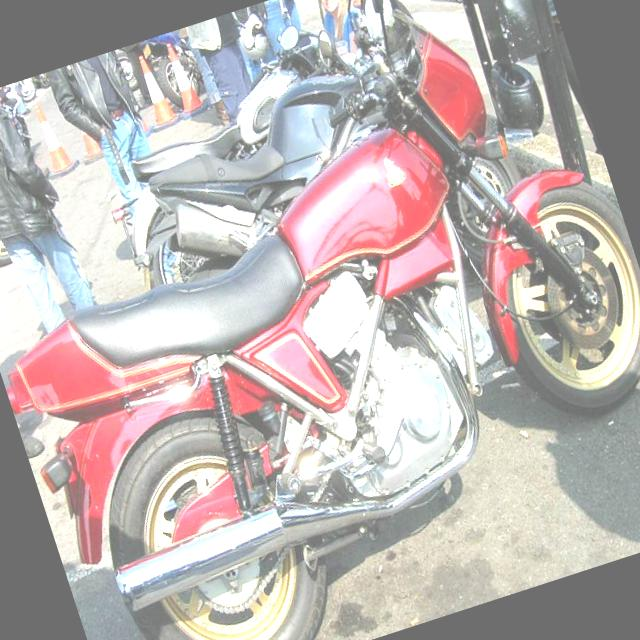Vehicle: (0, 0, 640, 640), (72, 8, 401, 294)
